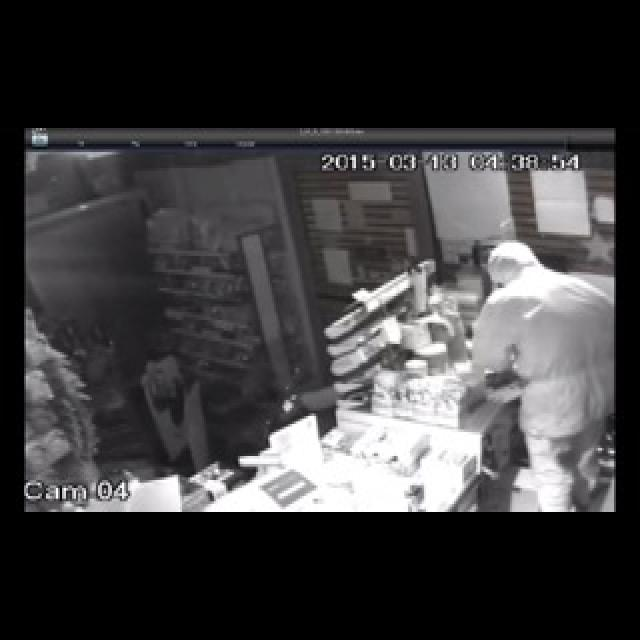thief: (468, 223, 608, 507)
